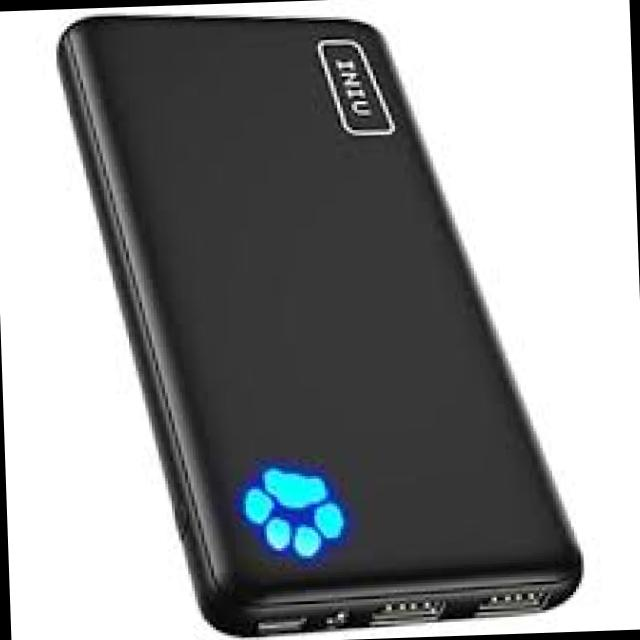portable-charger: (52, 0, 587, 640)
